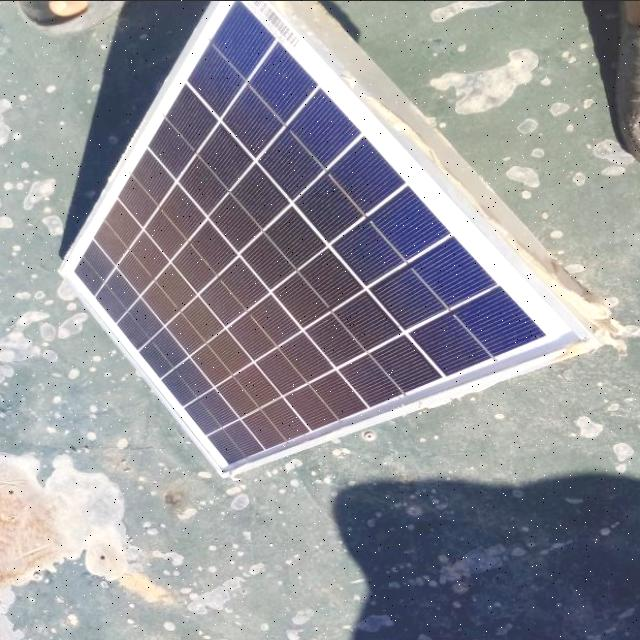Normal Solar Panel: (59, 0, 596, 476)
